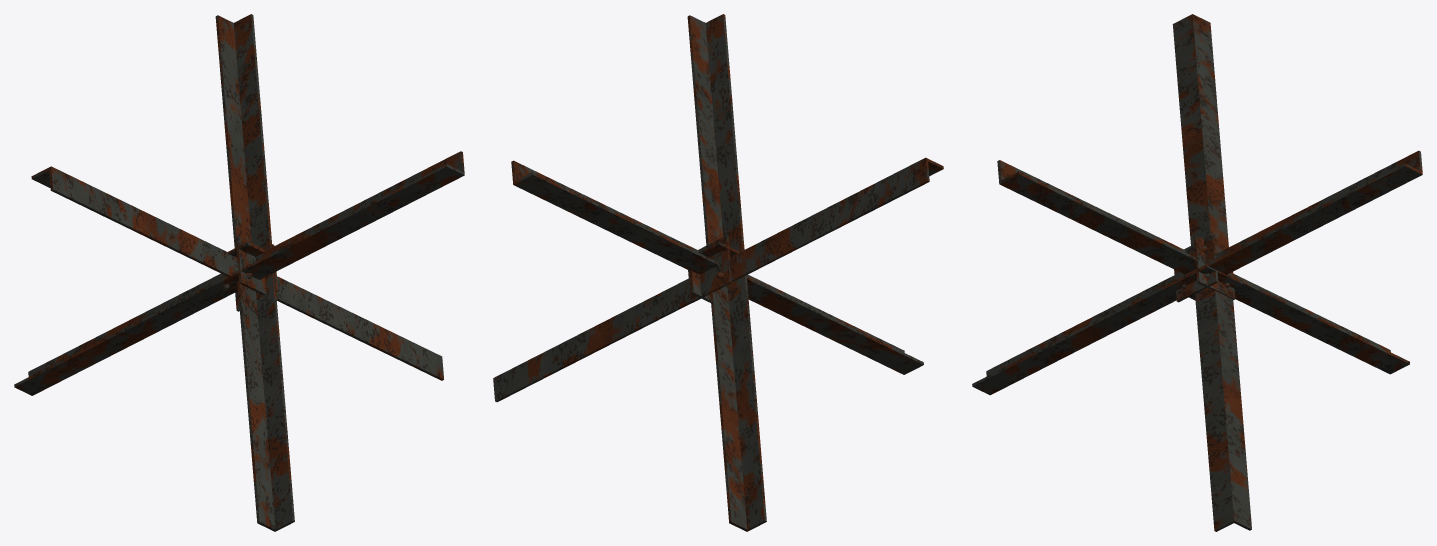
Rendered from czech_hedgehog.glb.
The picture shows the model from 3 angles, left to right: view 1: azimuth 30°, elevation 25°; view 2: azimuth 150°, elevation 25°; view 3: azimuth 270°, elevation 25°; orthographic projection.
Visible parts, largest first — view 1: Czech_Hedgehog; view 2: Czech_Hedgehog; view 3: Czech_Hedgehog.
Boxes of the visible parts, x1,y1,x2,y2 form: Czech_Hedgehog: (14,14,464,531); Czech_Hedgehog: (493,14,943,531); Czech_Hedgehog: (972,14,1422,531).
Size of the model in its own units: 2.01 by 1.46 by 1.85.
Materials: 1 (1 with a texture image).
